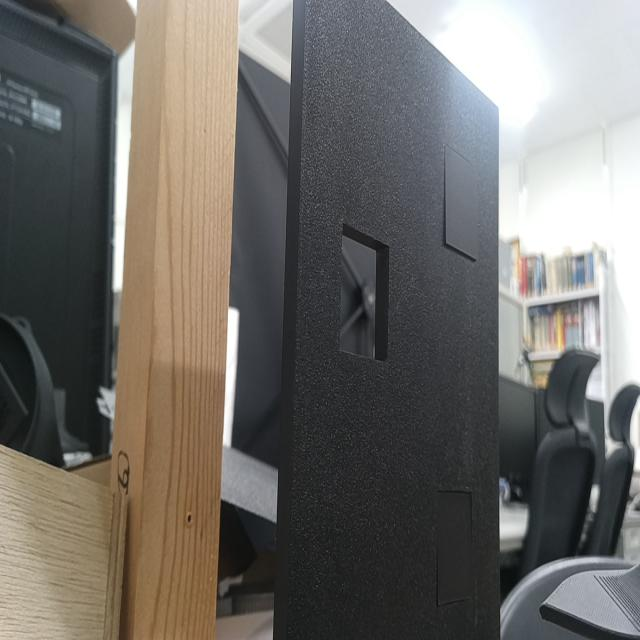Obstacle: (340, 225, 390, 363)
Wall: (287, 0, 500, 639)
